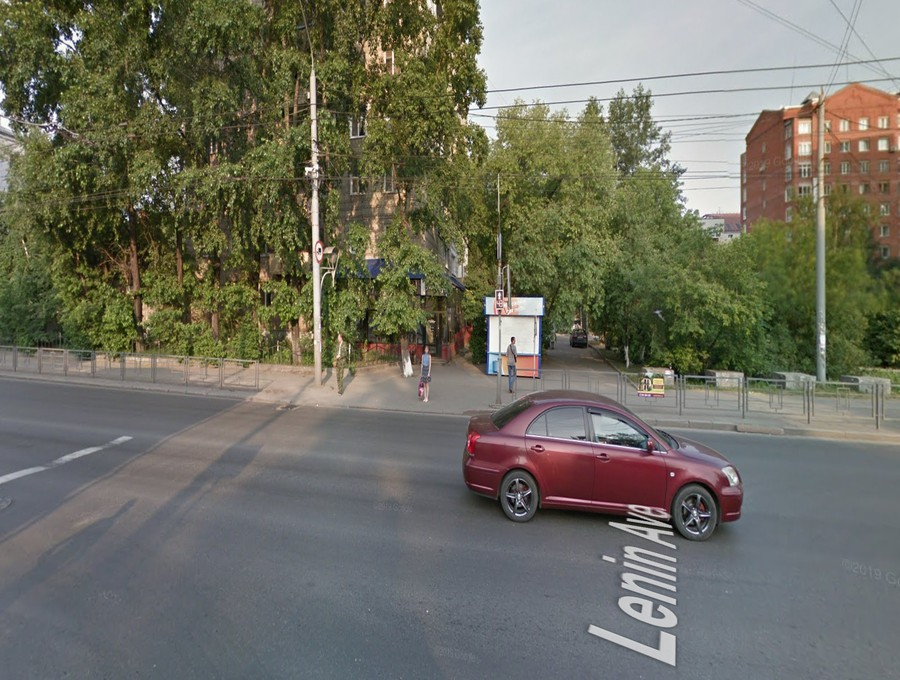Traffic Light-red: (493, 286, 508, 316)
